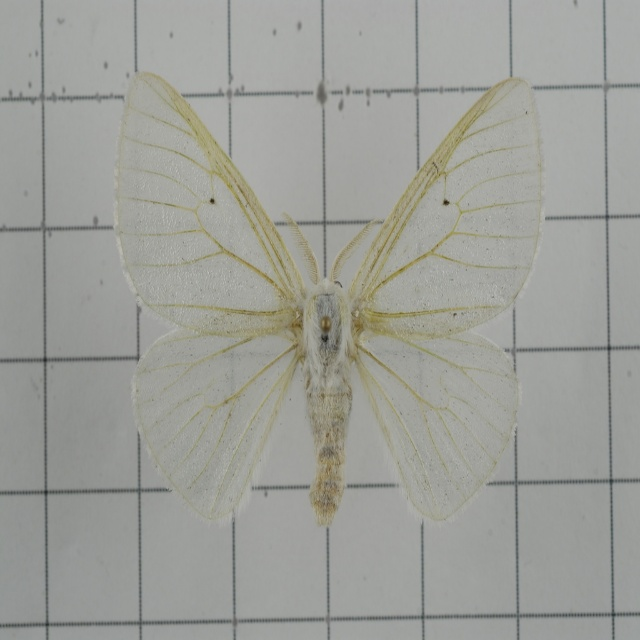Butterfly: (114, 69, 546, 526)
